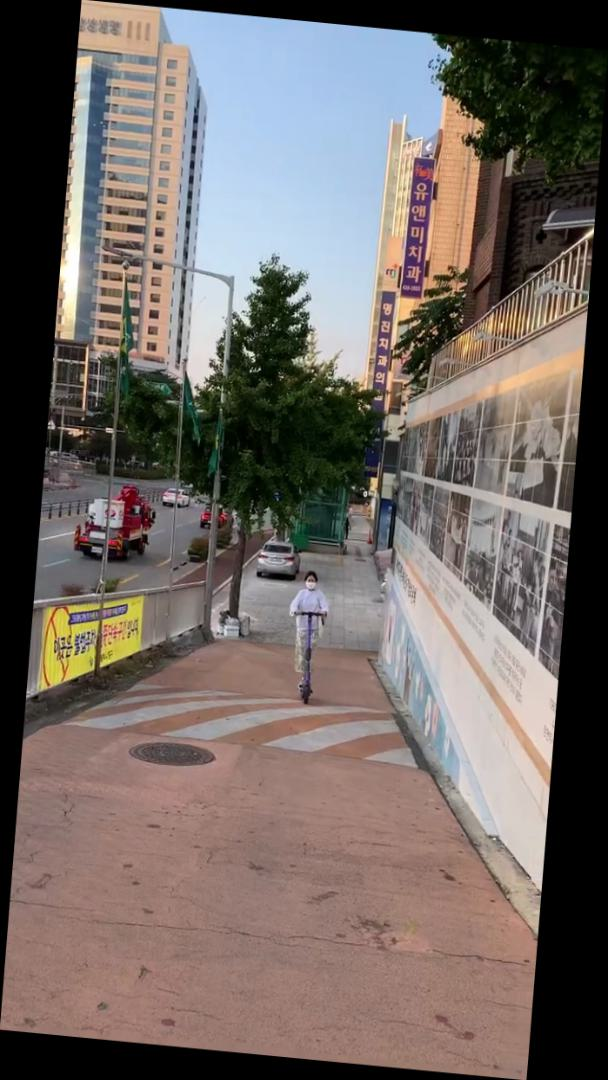nonhelmet: (280, 567, 336, 709)
